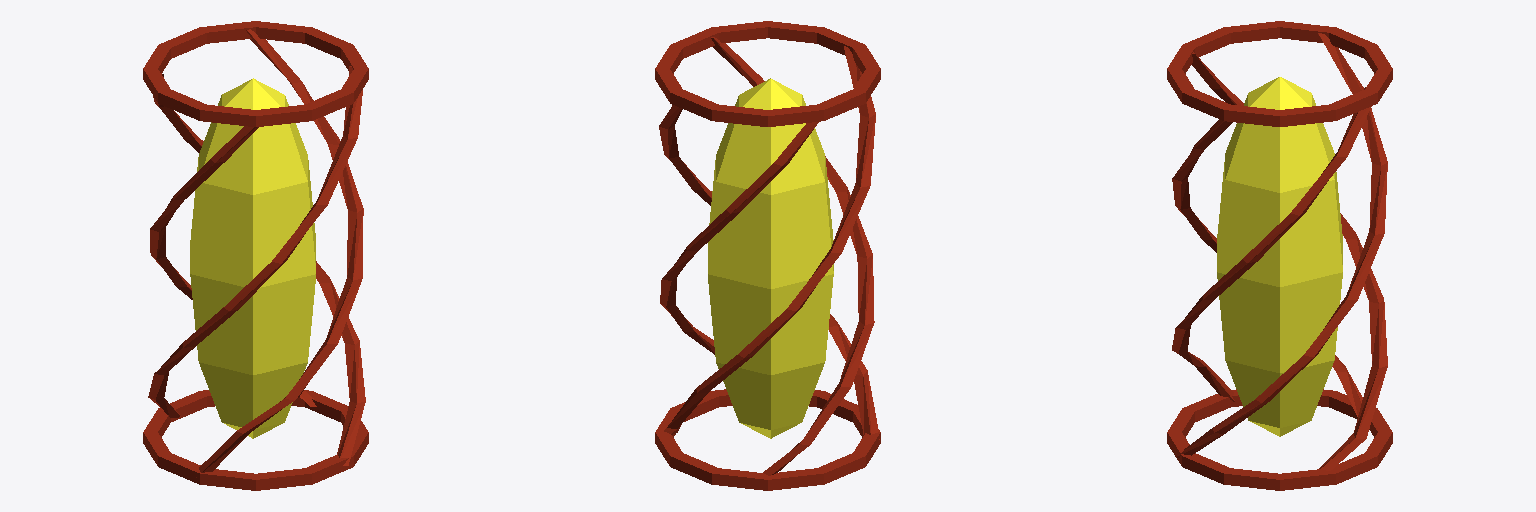
Rendered from Battery.obj.
3 views of the same model, side by side, from view 1: azimuth 30°, elevation 25°; view 2: azimuth 150°, elevation 25°; view 3: azimuth 270°, elevation 25° (orthographic).
Parts seen in each view (by area): view 1: ENERGY_PROP; view 2: ENERGY_PROP; view 3: ENERGY_PROP.
Part boxes in pixels (left/top/right/bottom): ENERGY_PROP: left=143, top=21, right=368, bottom=490; ENERGY_PROP: left=655, top=21, right=880, bottom=490; ENERGY_PROP: left=1167, top=21, right=1392, bottom=490.
Bounding box in the file's own units: 1.19 × 2.18 × 1.19.